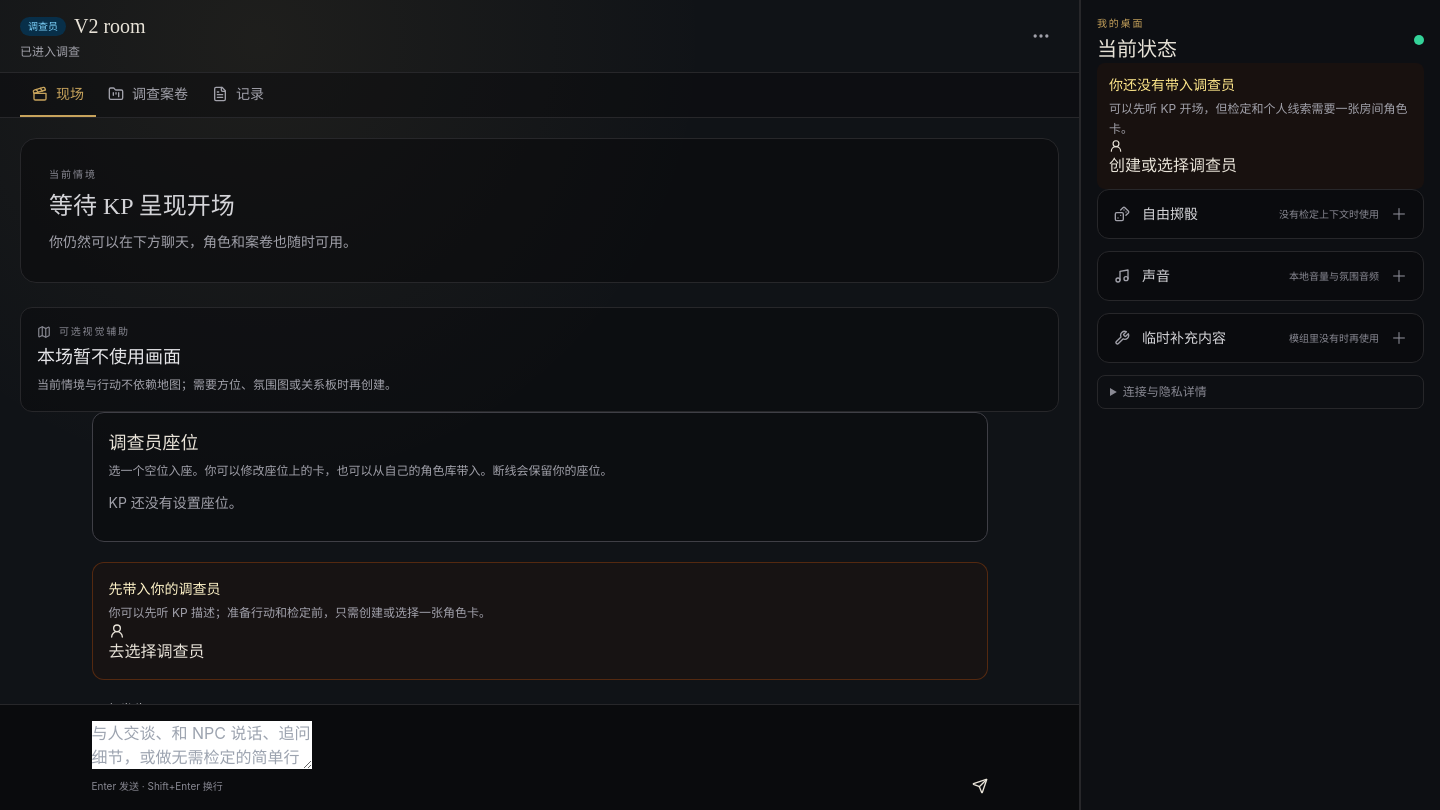
it: RoomViewV2 board creation › keeps record export feedback separate from room connectivity and lets people retry
Later steps or results of the test are not shown.
Click the heading named "房间菜单". click: (1041, 36)
box: [1031,26,1051,46]
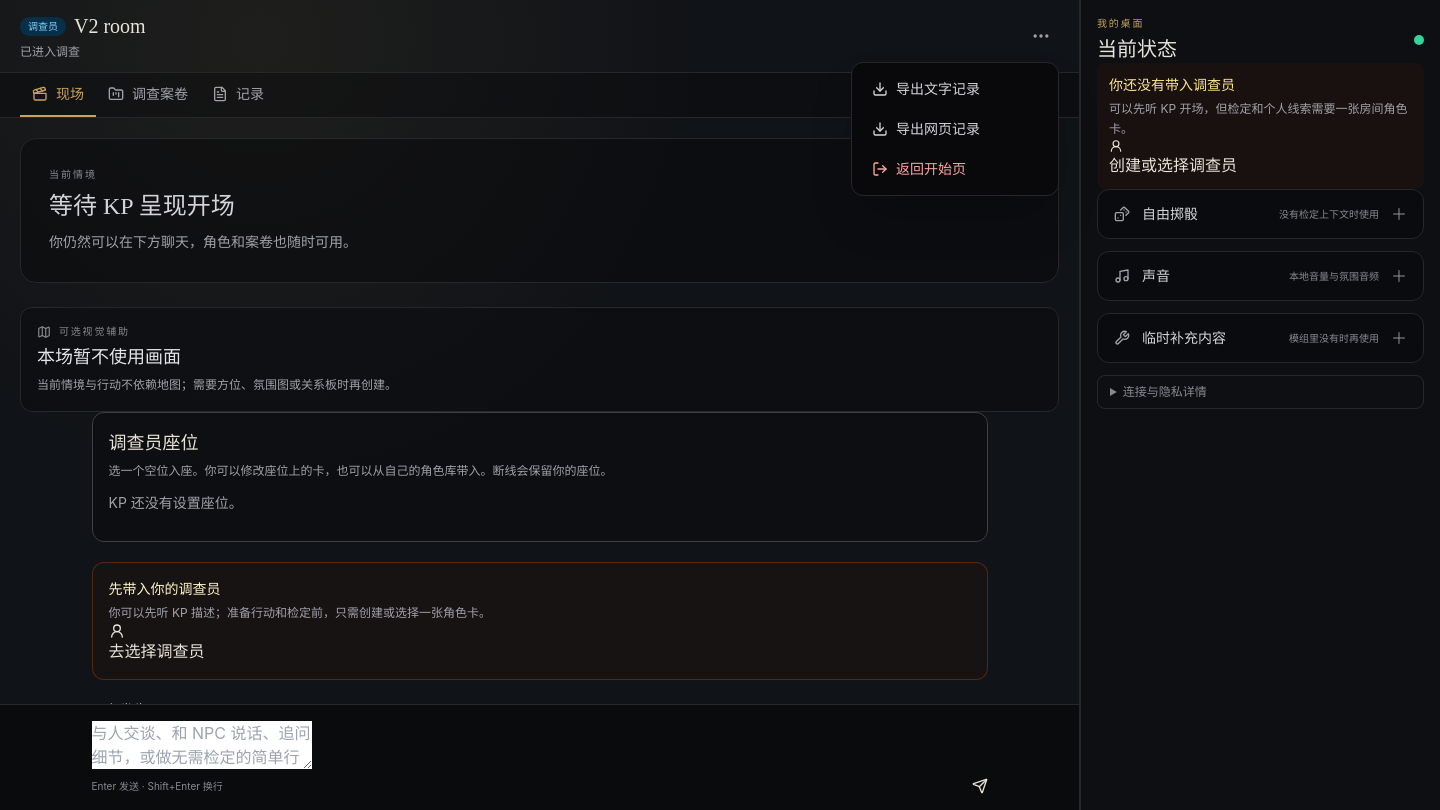
Click the button "导出网页记录". click: (955, 129)
box: [860,111,1050,147]
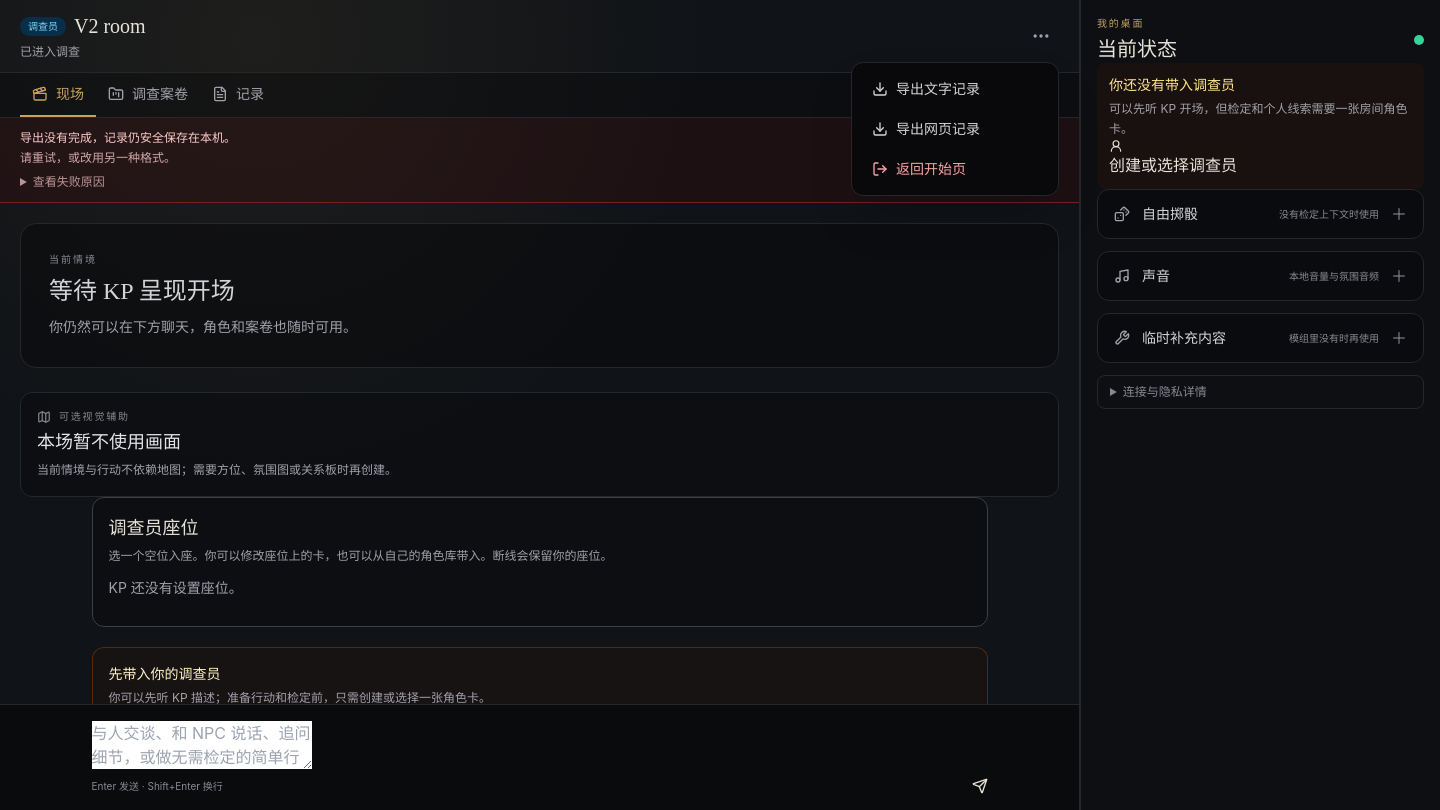
Check: the message shows "导出没有完成，记录仍安全保存在本机", box [20,130,236,145]
